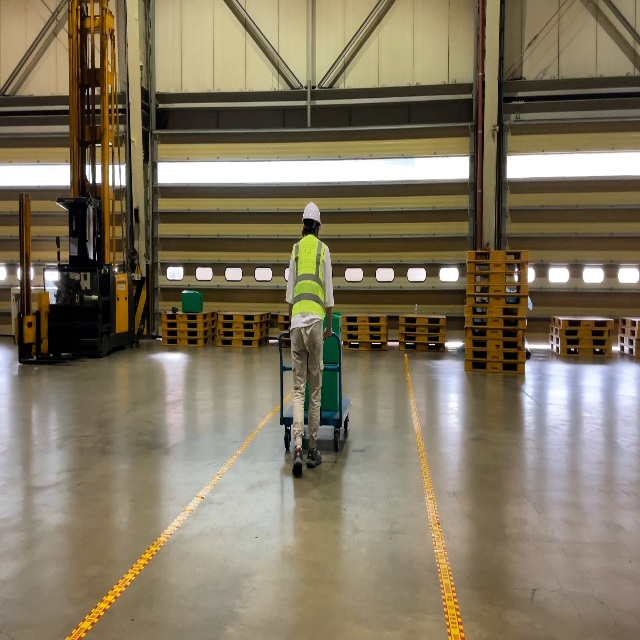Worker: (286, 201, 322, 477)
